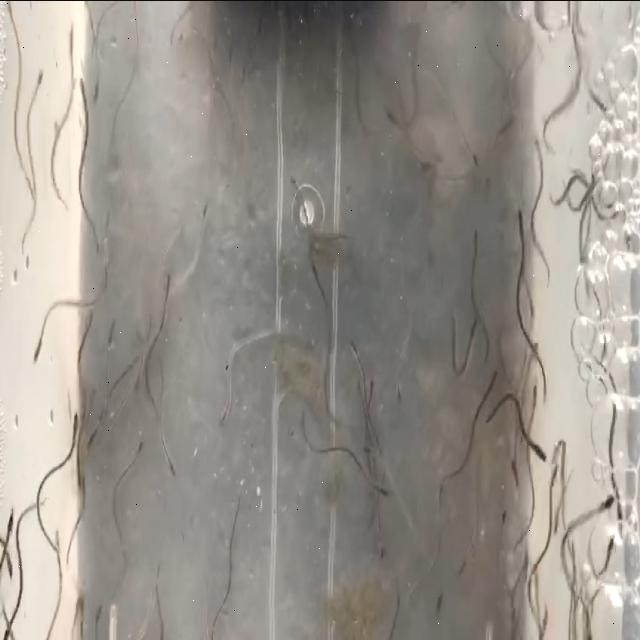active_glass_eel: (612, 495, 628, 544), (214, 396, 232, 432), (106, 314, 120, 356), (50, 530, 64, 570), (0, 552, 14, 591), (28, 333, 44, 367), (373, 530, 389, 564), (530, 436, 546, 470), (469, 144, 484, 179), (73, 459, 87, 496), (431, 587, 446, 621), (384, 110, 405, 134), (374, 480, 394, 505), (0, 511, 15, 544), (198, 192, 212, 227), (28, 68, 44, 98), (73, 590, 86, 626), (512, 456, 524, 495), (61, 27, 76, 58), (496, 509, 510, 542), (92, 64, 104, 102), (516, 203, 528, 240), (130, 435, 147, 461), (0, 617, 19, 640), (68, 402, 80, 436), (163, 446, 175, 480), (470, 225, 482, 259), (86, 423, 102, 448), (596, 488, 616, 508), (76, 73, 88, 105), (392, 372, 404, 404), (532, 129, 542, 167), (457, 554, 471, 580), (347, 334, 359, 364), (92, 604, 104, 632), (364, 375, 376, 403), (486, 364, 498, 392), (528, 378, 538, 408), (286, 173, 304, 189), (604, 537, 616, 561), (436, 478, 446, 502), (0, 0, 13, 15)
